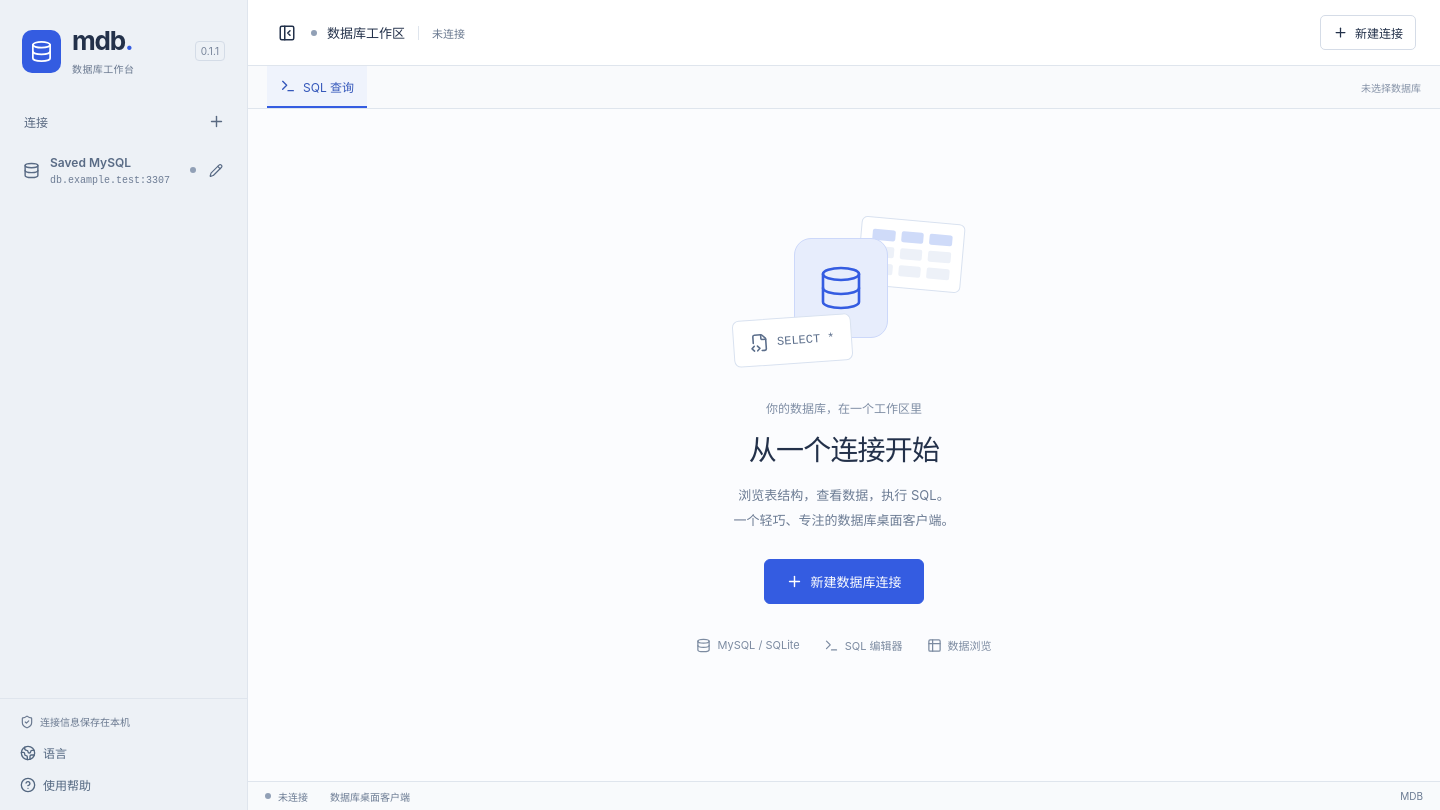
Test: keeps credentials untouched when metadata save fails
This screenshot has width=1440, height=810.
Click the button named "编辑连接 Saved MySQL": (216, 170) [201, 156, 230, 185]
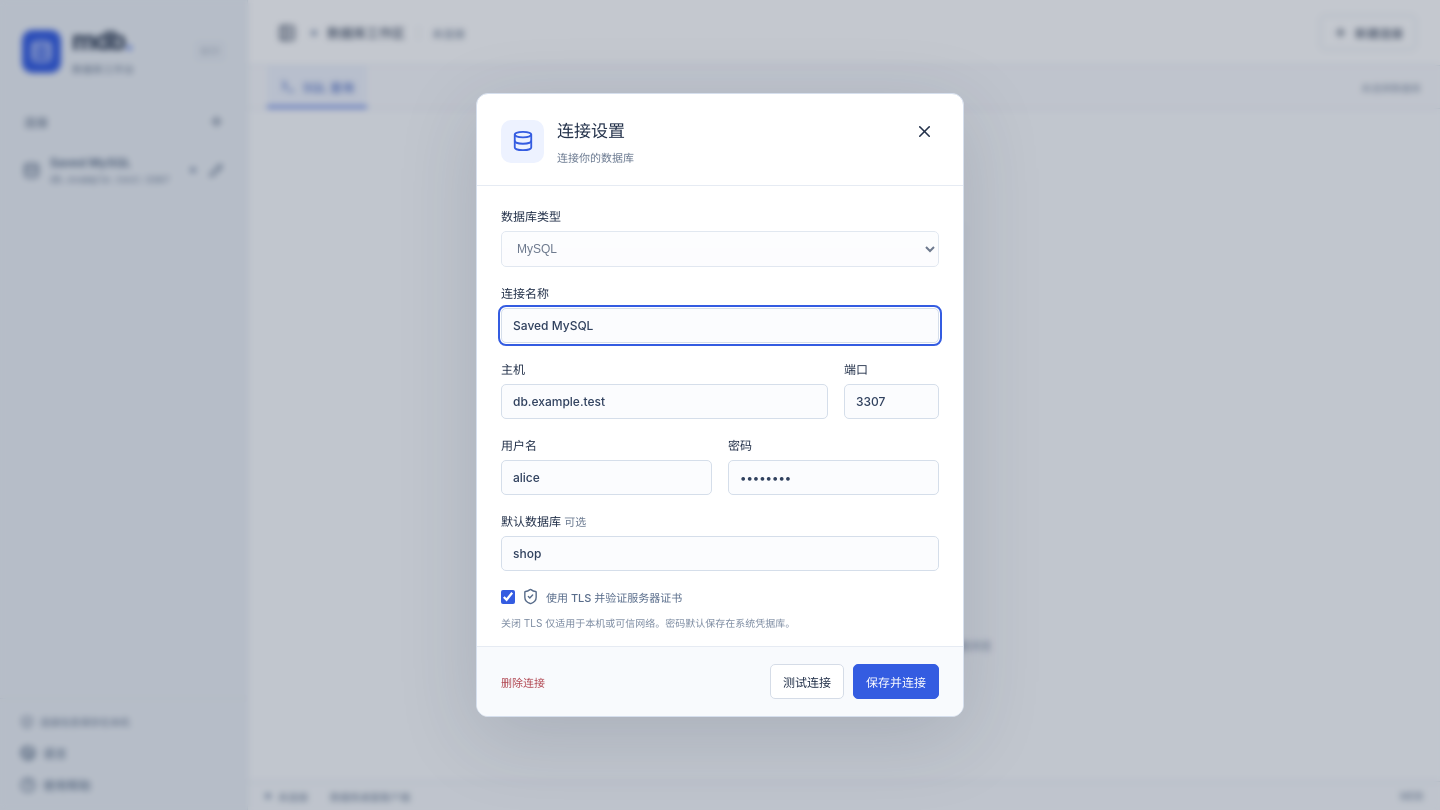
Check: the dialog is shown, box [476, 93, 964, 717]
Click the button "保存并连接": (896, 682) [853, 664, 939, 699]
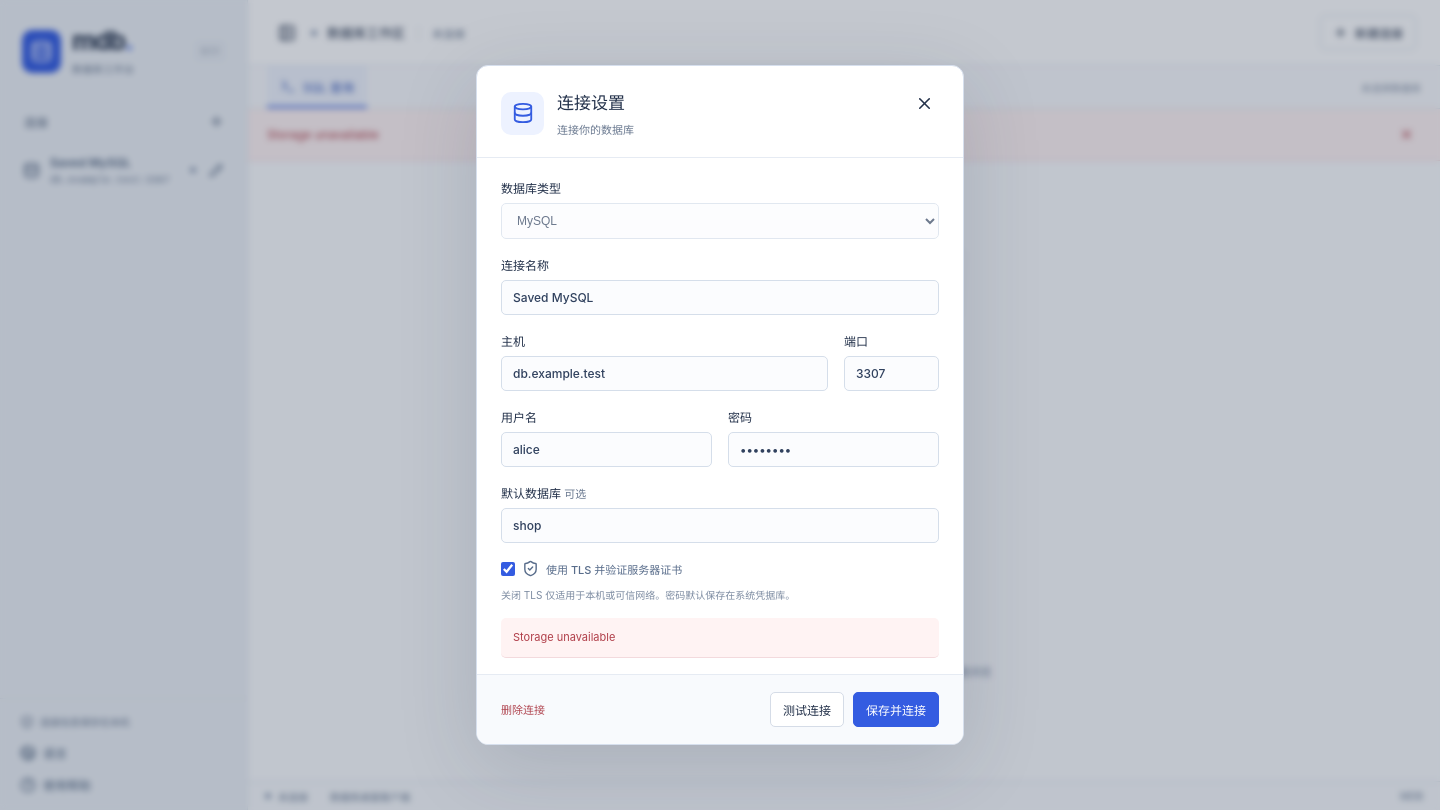
Check: the message "Storage unavailable" is shown, box [501, 618, 939, 658]
